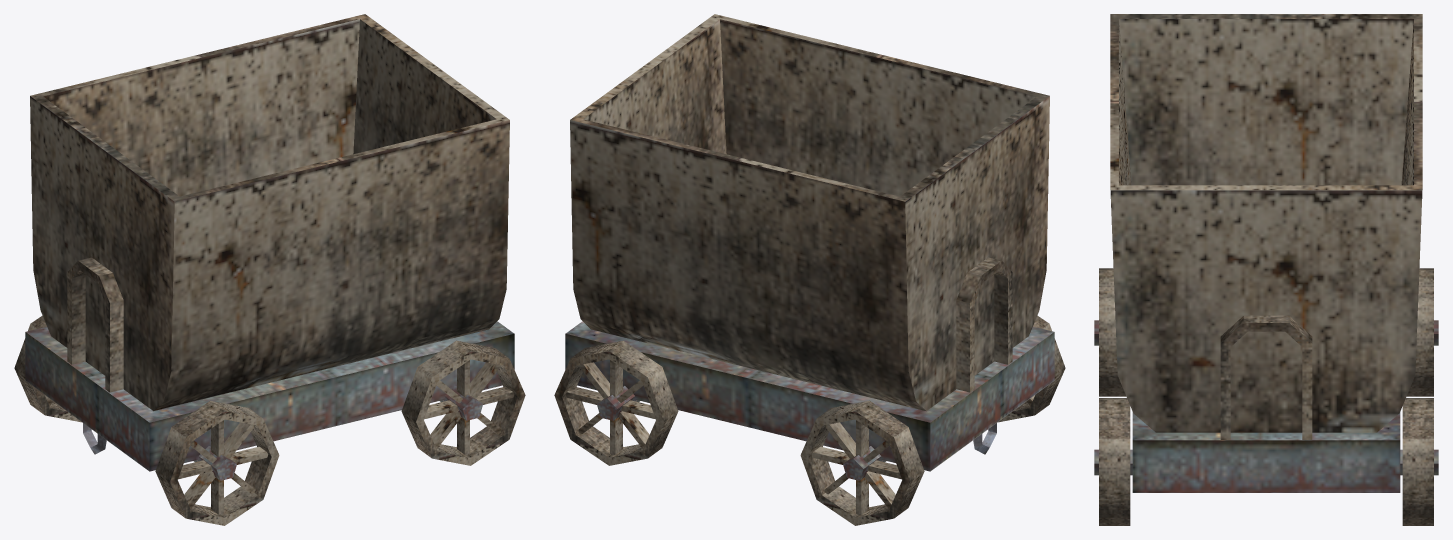
File: mine_cart.glb
The picture shows the model from 3 angles, left to right: view 1: azimuth 30°, elevation 25°; view 2: azimuth 150°, elevation 25°; view 3: azimuth 270°, elevation 25°; orthographic projection. The views are drawn at different scales.
Visible parts, largest first — view 1: Wagon; view 2: Wagon; view 3: Wagon.
Part boxes in pixels (x1,y1,x2,y2): Wagon: [14, 14, 525, 525]; Wagon: [554, 14, 1065, 525]; Wagon: [1094, 14, 1438, 525].
Size of the model in its own units: 1.77 by 1.53 by 1.34.
Materials: 1 (1 with a texture image).
